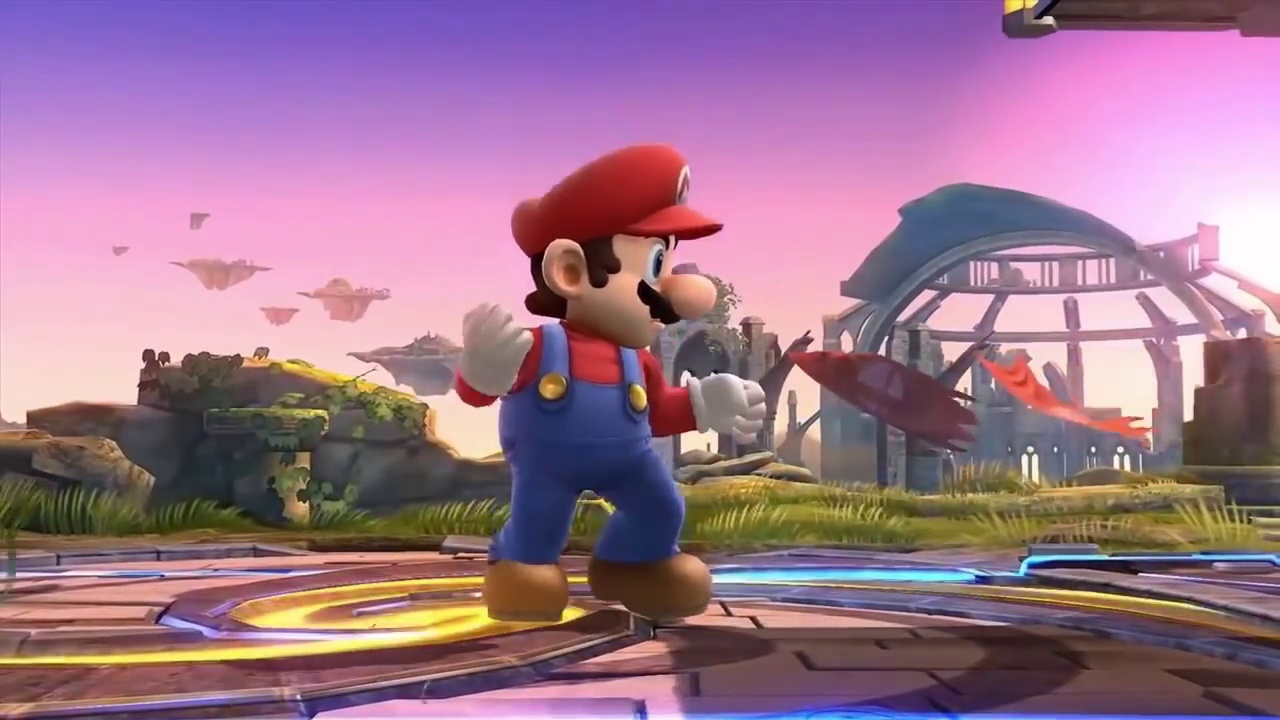Mario: (452, 141, 767, 619)
